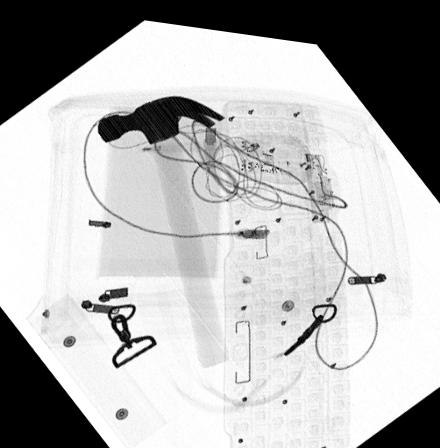Hammer: (96, 87, 230, 362)
